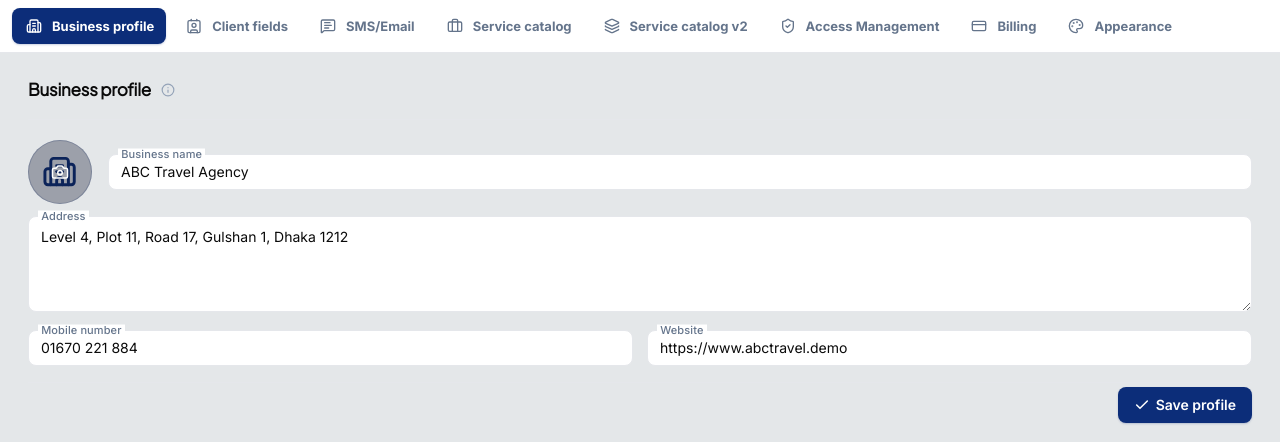
it: settings service catalog › writes the section into the URL
The image size is (1280, 442).
Click the button "Appearance" at (1119, 26), box [1054,8,1184,44]
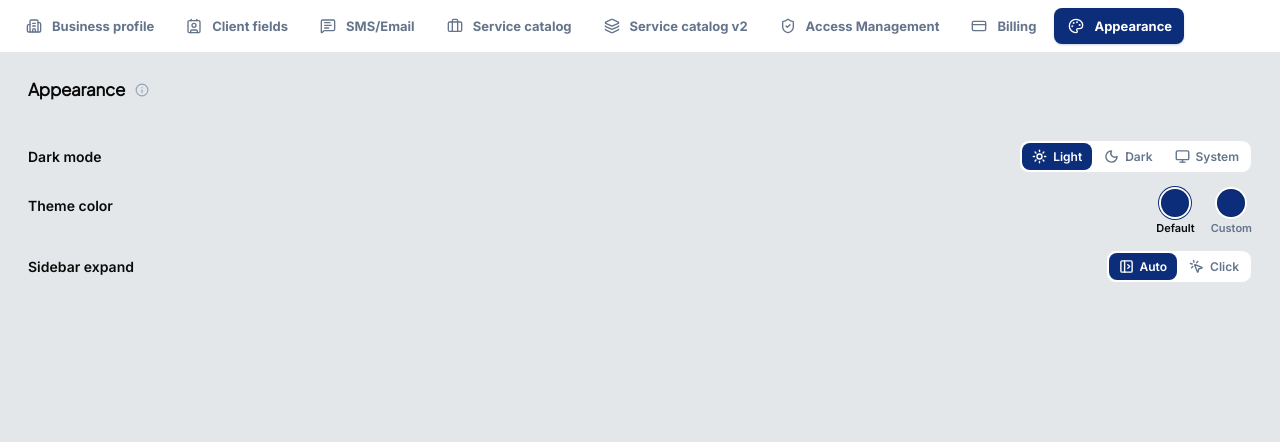
Expected: the heading "Appearance" is shown, [28,77,125,102]
Expected: the radio button labelled "Light" is shown, [1022,142,1092,170]
